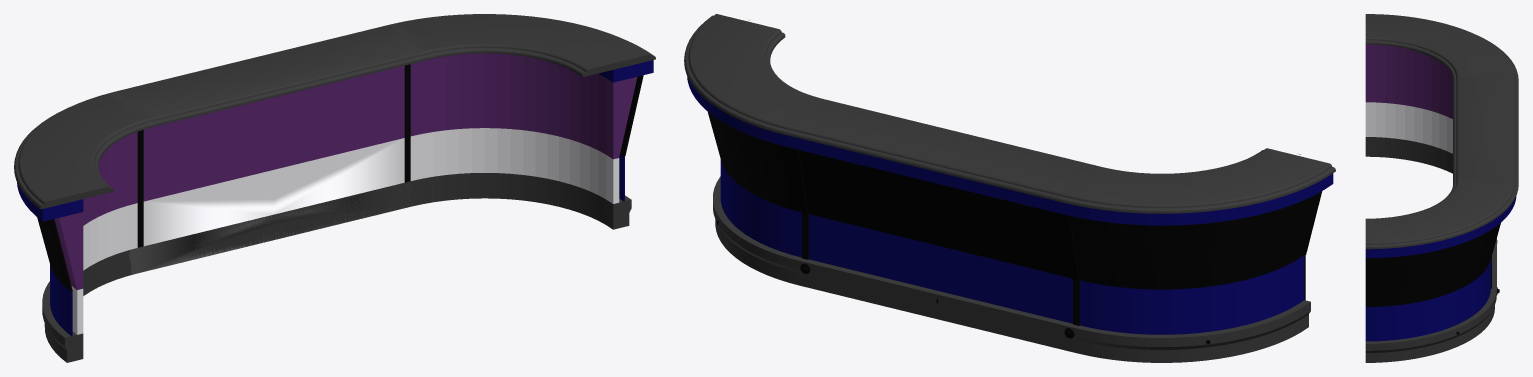
Rendered from bar2.fbx.
The picture shows the model from 3 angles, left to right: view 1: azimuth 30°, elevation 25°; view 2: azimuth 150°, elevation 25°; view 3: azimuth 270°, elevation 25°; orthographic projection. The views are drawn at different scales.
Parts seen in each view (by area): view 1: Line30; view 2: Line30; view 3: Line30.
Boxes of the visible parts, bbox=[...] form: Line30: bbox=[14, 14, 655, 362]; Line30: bbox=[684, 14, 1335, 362]; Line30: bbox=[1365, 14, 1518, 362].
Size of the model in its own units: 385230 by 100094 by 108139.
